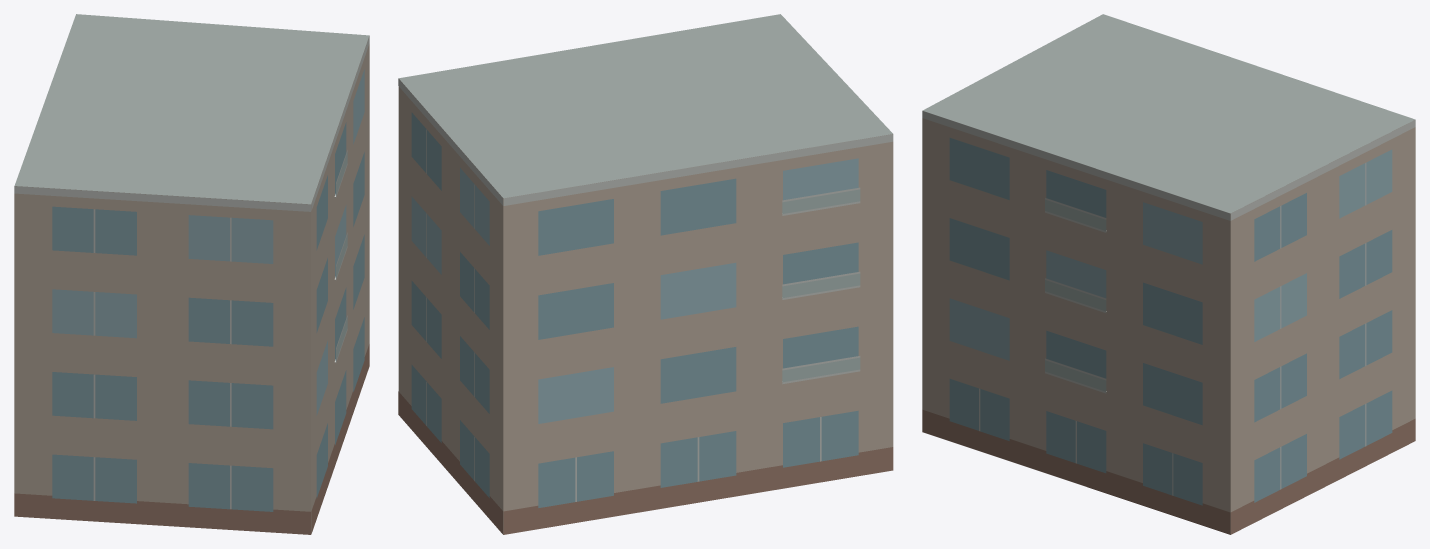
File: survey-upis-32534486.glb
3 renders of one model, left to right at view 1: azimuth 30°, elevation 25°; view 2: azimuth 150°, elevation 25°; view 3: azimuth 270°, elevation 25°, orthographic. The views are drawn at different scales.
Parts seen in each view (by area): view 1: survey-upis-32534486.tmp; view 2: survey-upis-32534486.tmp; view 3: survey-upis-32534486.tmp.
Boxes of the visible parts, box(x1,y1,x2,y2) form: survey-upis-32534486.tmp: box(14, 14, 369, 534); survey-upis-32534486.tmp: box(398, 14, 893, 534); survey-upis-32534486.tmp: box(922, 14, 1415, 534).
Bounding box in the file's own units: 14.11 × 10.59 × 14.74.
